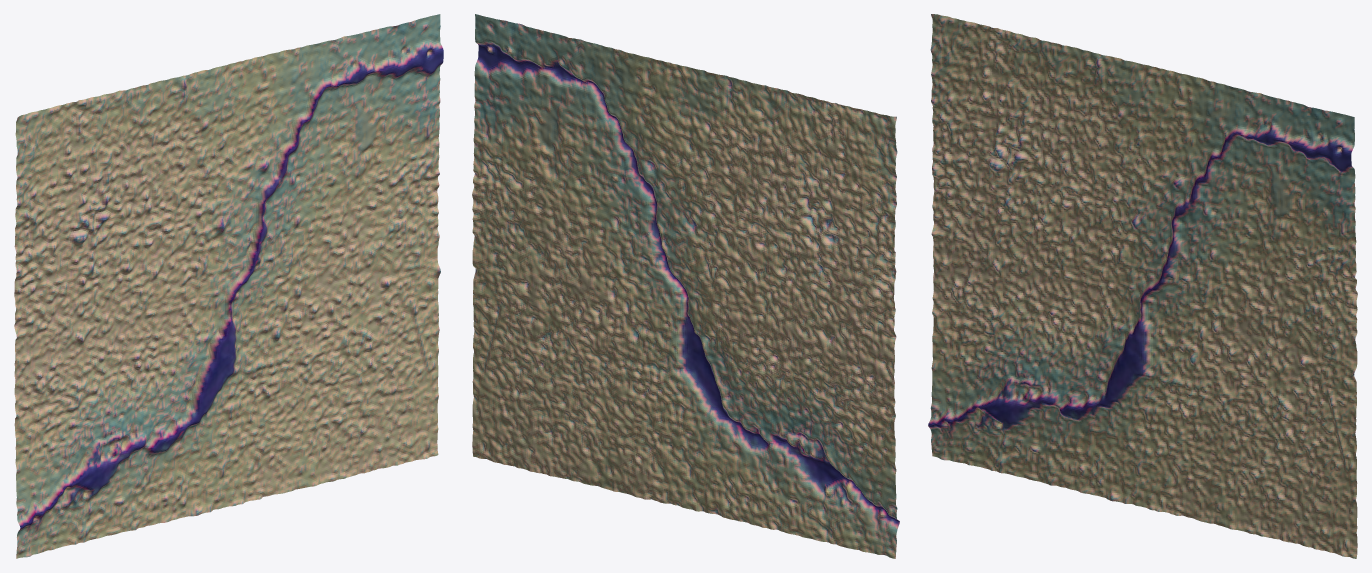
3 renders of one model, left to right at view 1: azimuth 30°, elevation 25°; view 2: azimuth 150°, elevation 25°; view 3: azimuth 330°, elevation 25°, orthographic.
Parts seen in each view (by area): view 1: world; view 2: world; view 3: world.
Part boxes in pixels (x1,y1,x2,y2): world: (14,14,443,558); world: (472,14,899,558); world: (928,14,1357,558).
Bounding box in the file's own units: 299 × 299 × 8.57.
